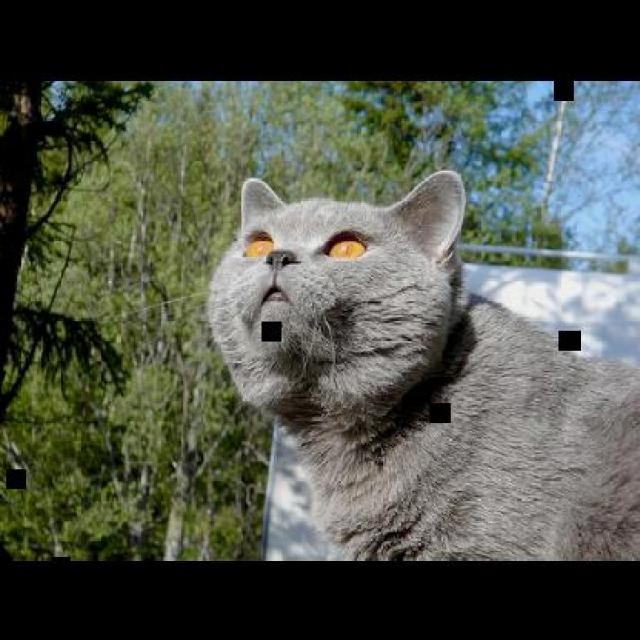unauthorized: (204, 168, 638, 560)
